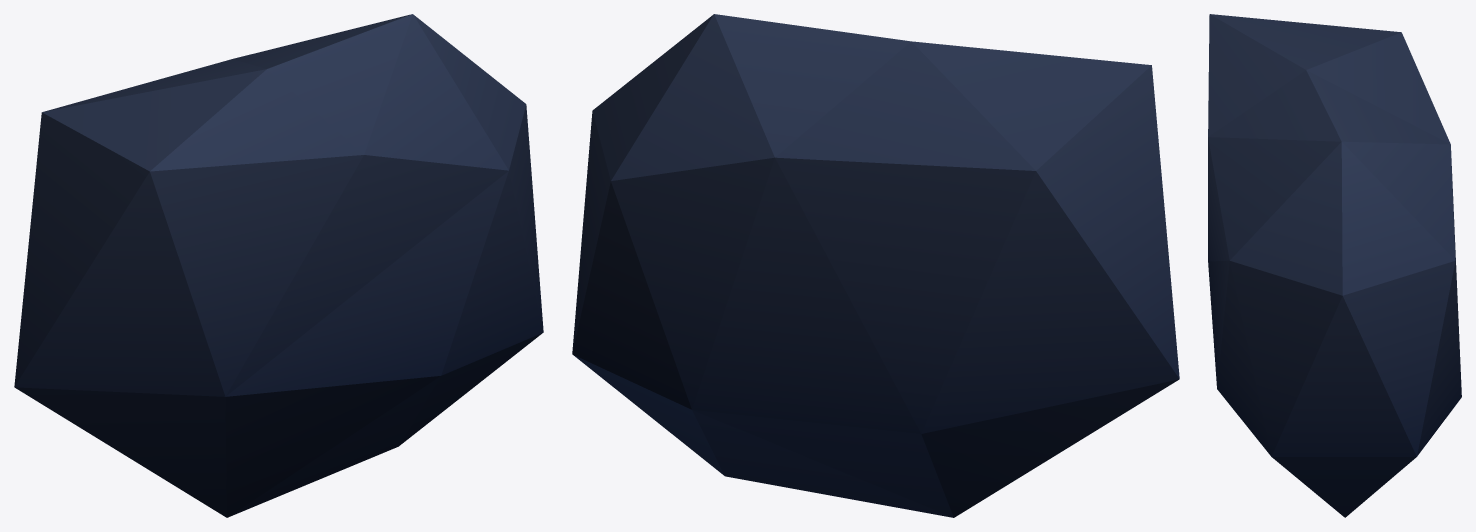
The model's file is Spike_1.glb.
3 renders of one model, left to right at view 1: azimuth 30°, elevation 25°; view 2: azimuth 150°, elevation 25°; view 3: azimuth 270°, elevation 25°, orthographic. The views are drawn at different scales.
Visible parts, largest first — view 1: lamplighter__Spike_1__stone; view 2: lamplighter__Spike_1__stone; view 3: lamplighter__Spike_1__stone.
Part boxes in pixels (x1,y1,x2,y2): lamplighter__Spike_1__stone: (14,14,543,517); lamplighter__Spike_1__stone: (572,14,1179,517); lamplighter__Spike_1__stone: (1208,14,1461,517).
Bounding box in the file's own units: 0.56 × 0.4412 × 0.2612.
